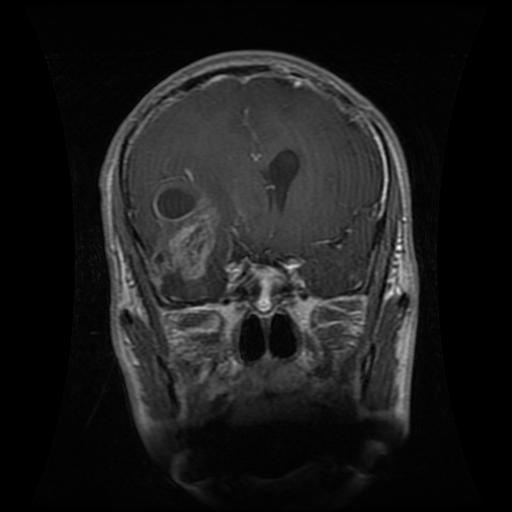Gliomia_tumour: (147, 173, 220, 293)
